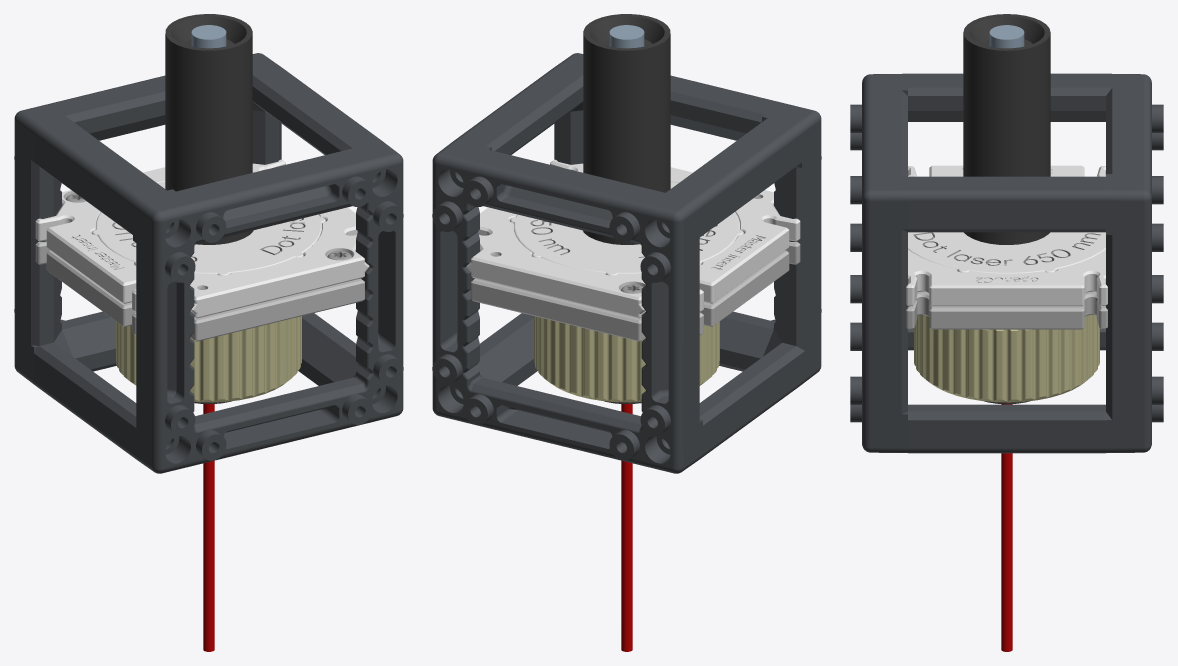
Rendered from ASS_-_2012_-_CUBLAS650_-_V04.glb.
3 renders of one model, left to right at view 1: azimuth 30°, elevation 25°; view 2: azimuth 150°, elevation 25°; view 3: azimuth 270°, elevation 25°, orthographic.
Parts seen in each view (by area): view 1: PRT - 1003 - CUBHLF111 - V04:2, PRT - 1003 - CUBHLF111 - V04:1, BUY - Picotronic - Dot laser - LFD650-1-4.5(15x67):1, PRT - 2123 - MASLCK - V04 - B:1, PRT - 2105 - NUTLASHOLD15:1, PRT - 2100 - MASINS - V04 - B:1, PRT - 2104 - MASINSHOLLAS650:1; view 2: PRT - 1003 - CUBHLF111 - V04:1, PRT - 1003 - CUBHLF111 - V04:2, BUY - Picotronic - Dot laser - LFD650-1-4.5(15x67):1, PRT - 2123 - MASLCK - V04 - B:1, PRT - 2105 - NUTLASHOLD15:1, PRT - 2100 - MASINS - V04 - B:1, PRT - 2104 - MASINSHOLLAS650:1; view 3: PRT - 1003 - CUBHLF111 - V04:1, PRT - 1003 - CUBHLF111 - V04:2, BUY - Picotronic - Dot laser - LFD650-1-4.5(15x67):1, PRT - 2105 - NUTLASHOLD15:1, PRT - 2123 - MASLCK - V04 - B:1, PRT - 2104 - MASINSHOLLAS650:1, PRT - 2100 - MASINS - V04 - B:1.
Boxes of the visible parts, x1,y1,x2,y2 form: PRT - 1003 - CUBHLF111 - V04:2: [34, 67, 403, 473]; PRT - 1003 - CUBHLF111 - V04:1: [14, 53, 377, 394]; BUY - Picotronic - Dot laser - LFD650-1-4.5(15x67):1: [165, 14, 252, 651]; PRT - 2123 - MASLCK - V04 - B:1: [35, 159, 369, 318]; PRT - 2105 - NUTLASHOLD15:1: [116, 316, 301, 402]; PRT - 2100 - MASINS - V04 - B:1: [35, 241, 364, 341]; PRT - 2104 - MASINSHOLLAS650:1: [92, 182, 325, 275]; PRT - 1003 - CUBHLF111 - V04:1: [432, 118, 801, 473]; PRT - 1003 - CUBHLF111 - V04:2: [455, 53, 821, 457]; BUY - Picotronic - Dot laser - LFD650-1-4.5(15x67):1: [583, 14, 670, 651]; PRT - 2123 - MASLCK - V04 - B:1: [466, 159, 800, 318]; PRT - 2105 - NUTLASHOLD15:1: [534, 316, 719, 402]; PRT - 2100 - MASINS - V04 - B:1: [471, 241, 800, 341]; PRT - 2104 - MASINSHOLLAS650:1: [510, 182, 743, 275]; PRT - 1003 - CUBHLF111 - V04:1: [908, 73, 1163, 453]; PRT - 1003 - CUBHLF111 - V04:2: [850, 73, 1105, 452]; BUY - Picotronic - Dot laser - LFD650-1-4.5(15x67):1: [963, 14, 1050, 651]; PRT - 2105 - NUTLASHOLD15:1: [914, 315, 1099, 402]; PRT - 2123 - MASLCK - V04 - B:1: [906, 165, 1107, 306]; PRT - 2104 - MASINSHOLLAS650:1: [908, 232, 1105, 273]; PRT - 2100 - MASINS - V04 - B:1: [906, 292, 1107, 329].
Size of the model in its own units: 49.8 by 117 by 53.8.
